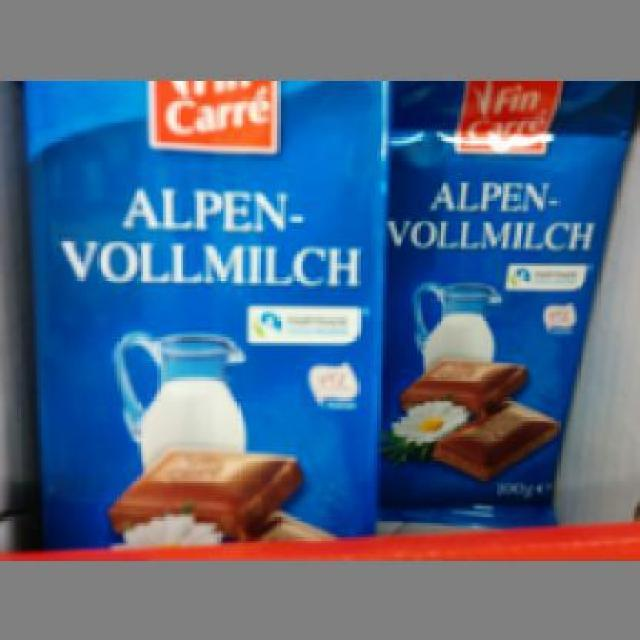Chocolate bar: (23, 77, 383, 540), (390, 80, 612, 523)
